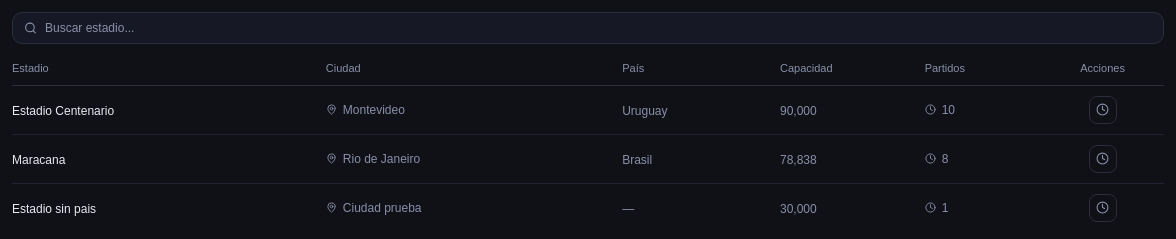
Test: StadiumsTab › renderiza estadios y filtra por nombre
The width and height of the screenshot is (1176, 239).
Expected: the text "Estadio Centenario" is shown, [12, 104, 114, 118]
Type "Maracana" into the field with placeholder "Buscar estadio...".
click(588, 28); type("Maracana")  # box [12, 12, 1164, 44]
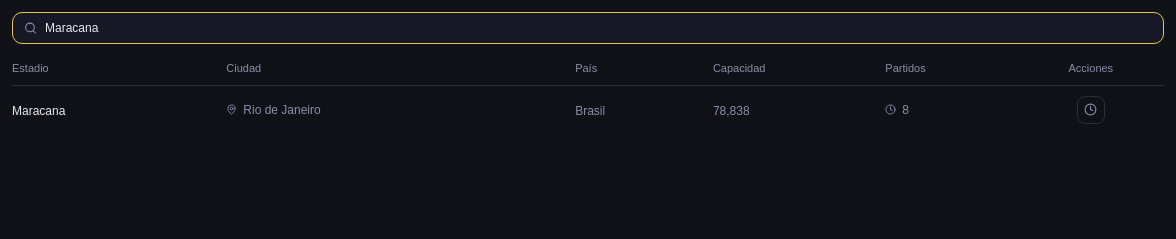
Expected: the text "Maracana" is shown, [12, 104, 65, 118]
Result: the text "Estadio Centenario" is gone
